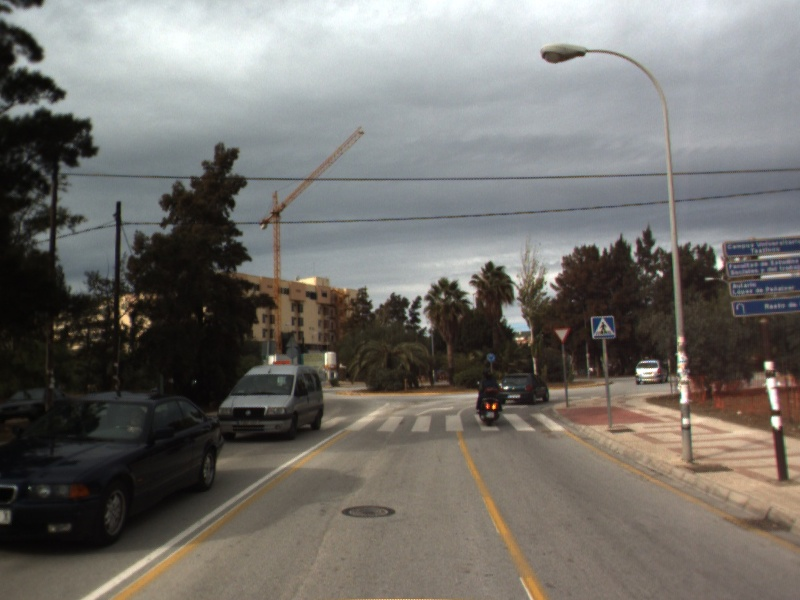RIGHT: (413, 403, 456, 418)
